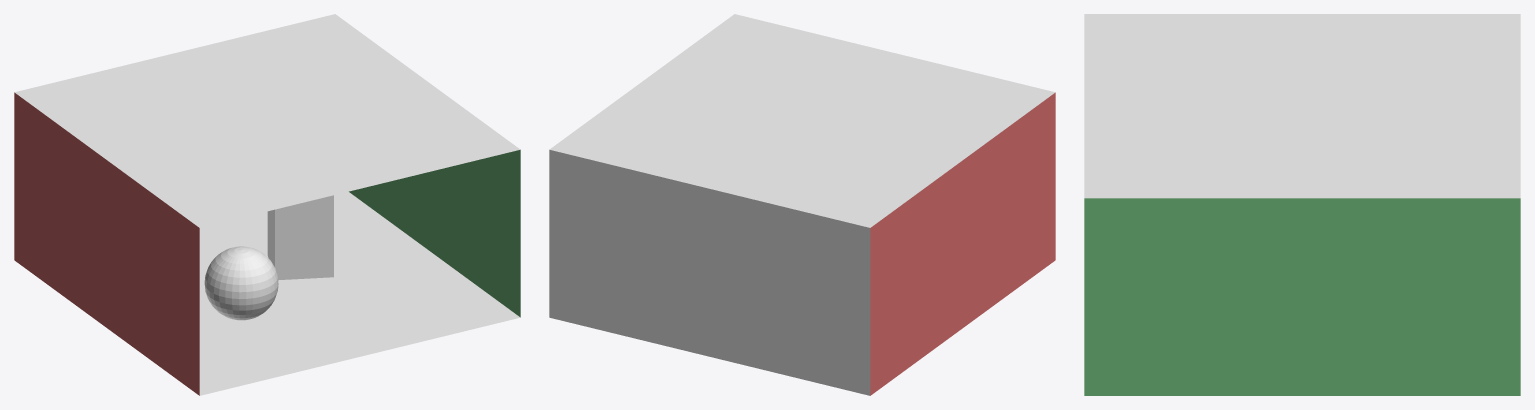
File: cornell-box.glb
The picture shows the model from 3 angles, left to right: view 1: azimuth 30°, elevation 25°; view 2: azimuth 150°, elevation 25°; view 3: azimuth 270°, elevation 25°; orthographic projection. The views are drawn at different scales.
Visible parts, largest first — view 1: ceil, left, floor, right, box, sphere; view 2: ceil, back, left; view 3: right, ceil.
Boxes of the visible parts, bbox=[...] form: ceil: bbox=[15, 14, 519, 227]; left: bbox=[14, 92, 199, 395]; floor: bbox=[199, 191, 519, 395]; right: bbox=[349, 149, 520, 317]; box: bbox=[267, 195, 333, 280]; sphere: bbox=[204, 246, 278, 320]; ceil: bbox=[550, 14, 1054, 227]; back: bbox=[549, 149, 870, 395]; left: bbox=[870, 92, 1055, 395]; right: bbox=[1084, 198, 1520, 395]; ceil: bbox=[1084, 14, 1520, 198].
Bounding box in the file's own units: 5 × 2.5 × 5.
